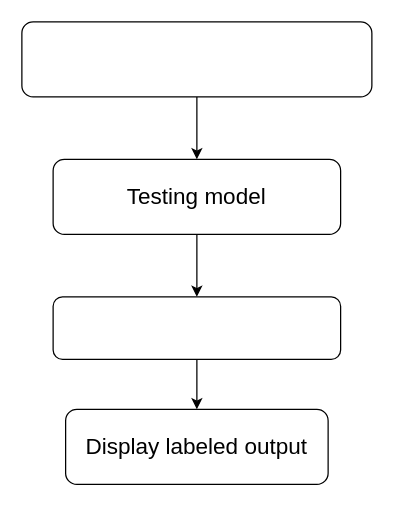
This 394x506 diagram has some shape labels left out. Each missing label, with the centre of its shape:
"Executing python script to detect real time video" belongs at pixel 196 327.
"Visualizing" belongs at pixel 196 59.
